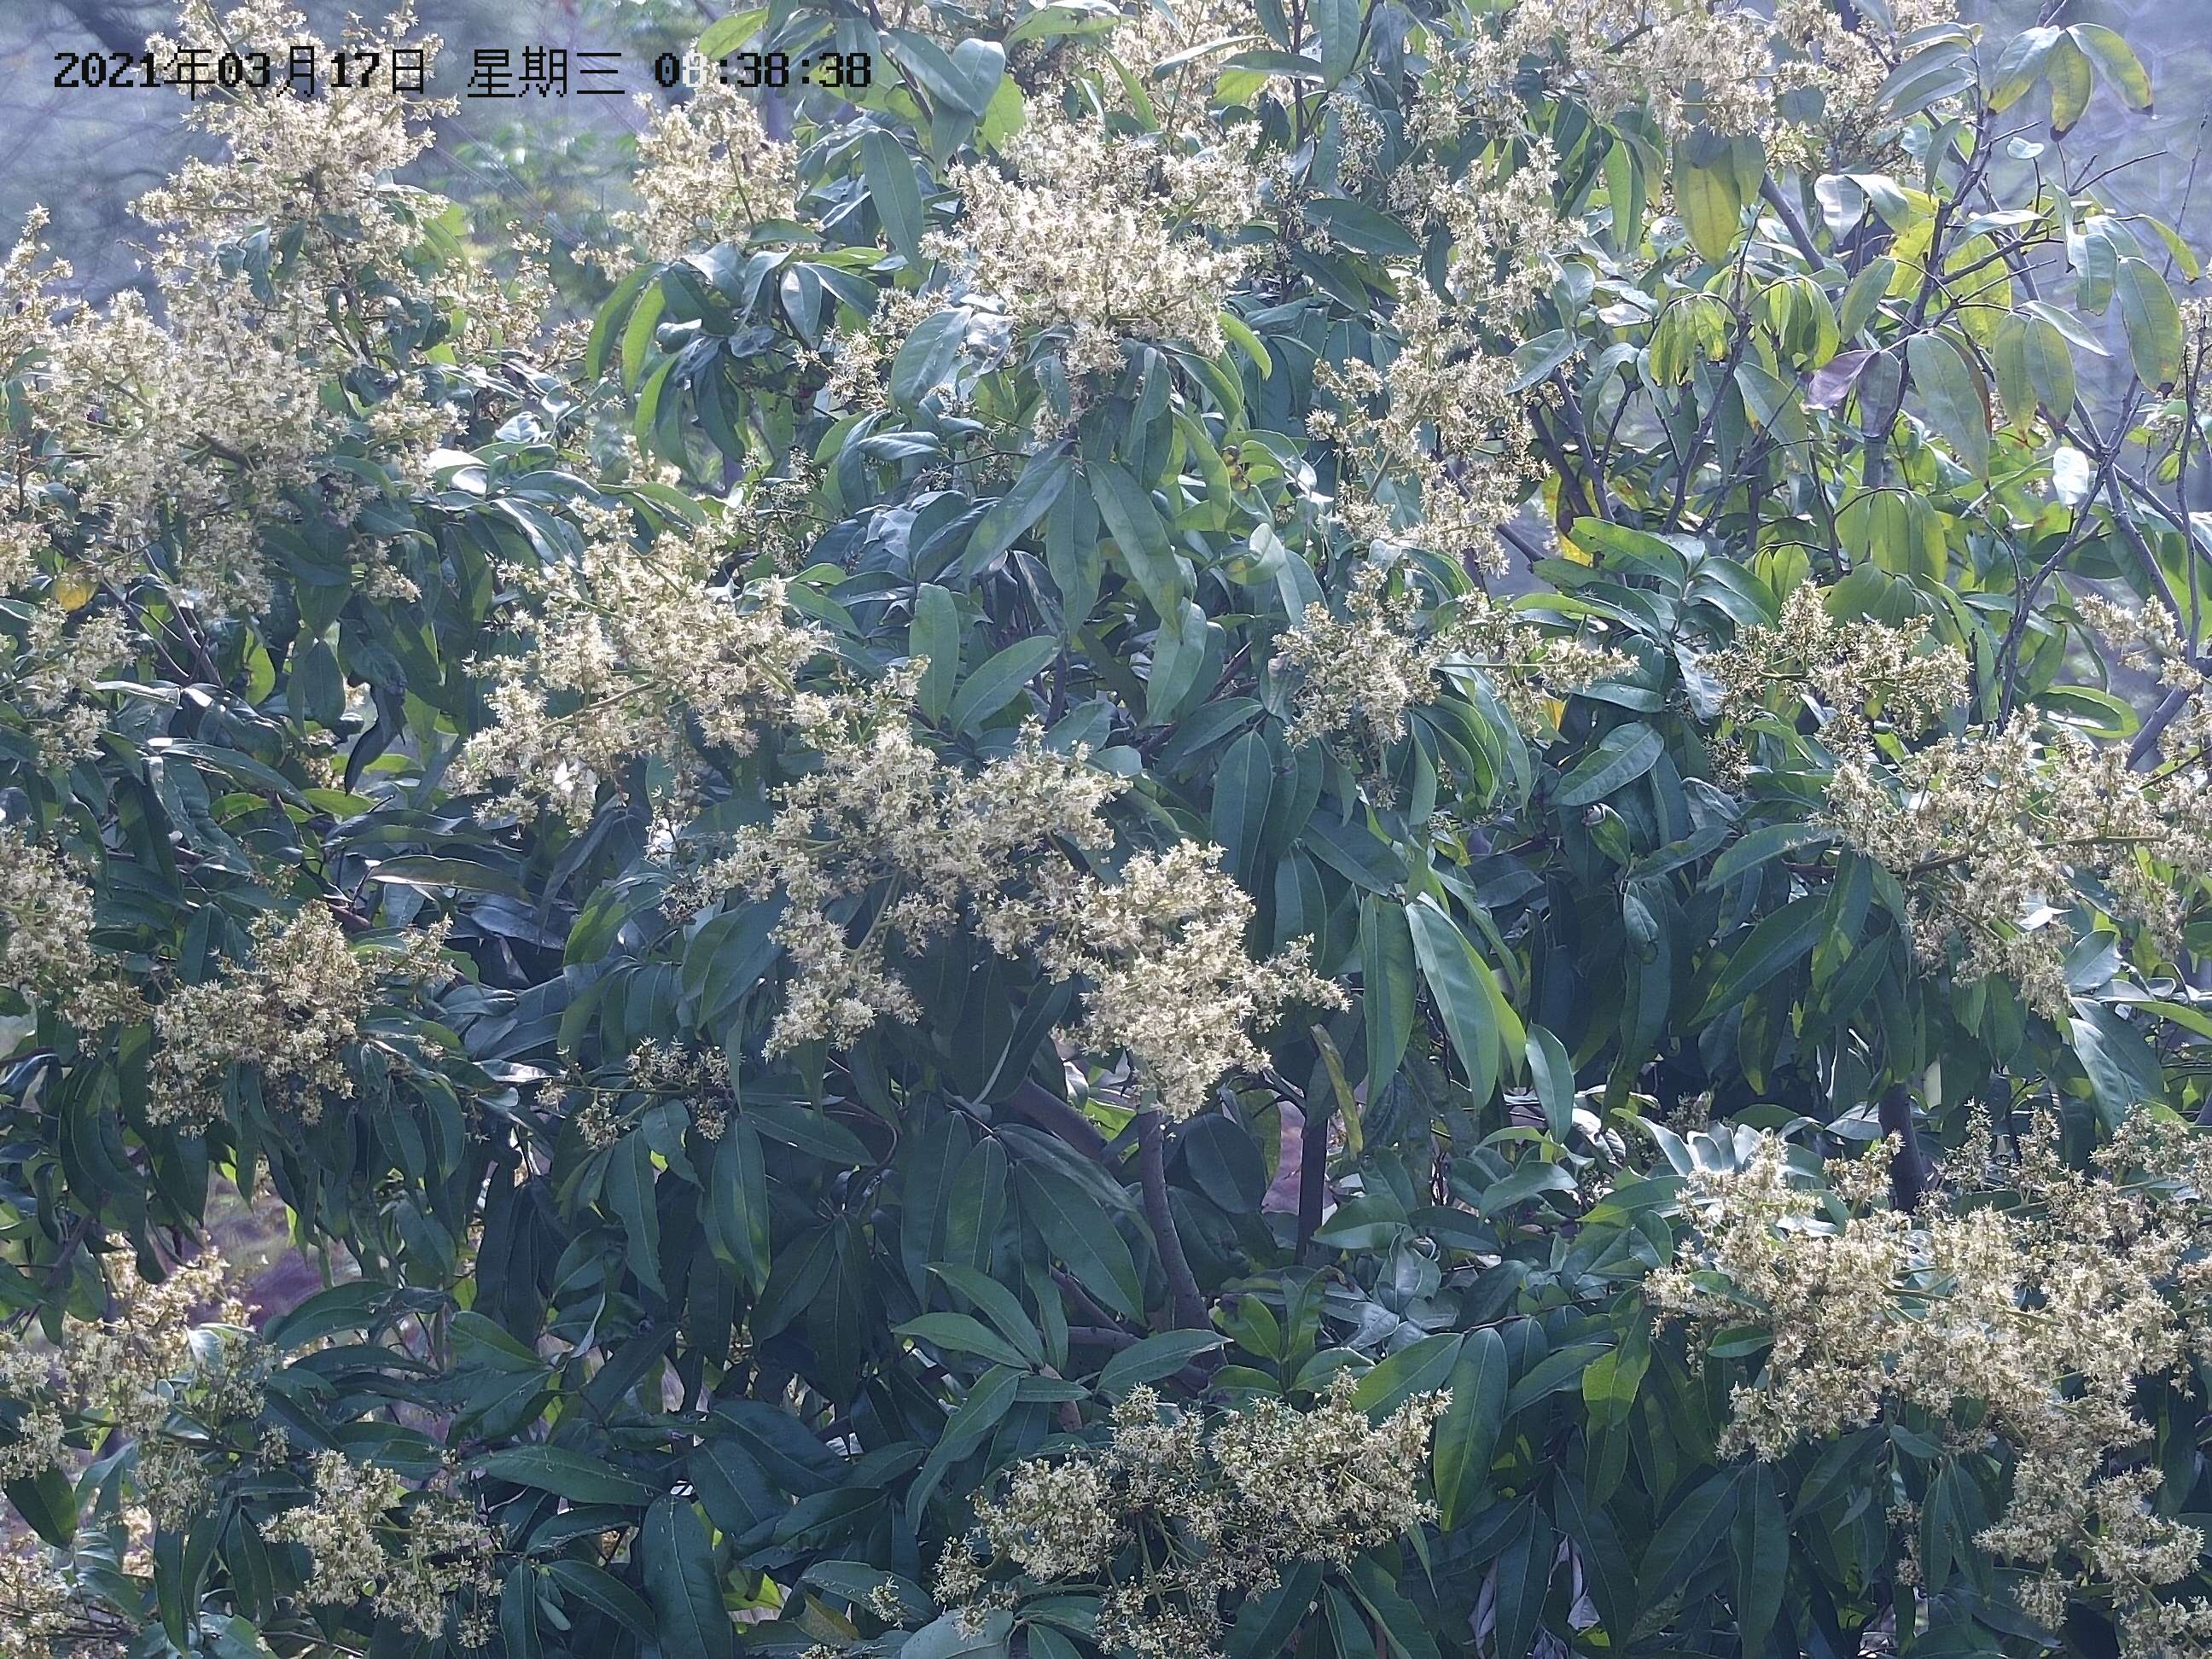开花盛期: (1653, 1093, 2212, 1476), (0, 1253, 491, 1657), (655, 702, 1137, 1075), (927, 1351, 1460, 1659), (913, 3, 1308, 396), (449, 498, 836, 826), (1320, 129, 1575, 570), (7, 263, 390, 542), (1895, 697, 2212, 1006), (1043, 826, 1359, 1121), (138, 890, 469, 1154), (148, 0, 460, 242), (1264, 573, 1630, 762), (1689, 573, 1991, 751), (611, 52, 834, 260), (1982, 1467, 2212, 1659), (2, 805, 148, 1066), (1512, 0, 1775, 136), (523, 1037, 749, 1140), (17, 592, 139, 770), (439, 214, 564, 342), (1785, 0, 1925, 113), (2067, 587, 2202, 697), (1381, 30, 1508, 141), (808, 289, 904, 406), (2172, 279, 2212, 423), (860, 1568, 909, 1638), (2022, 474, 2054, 502)
